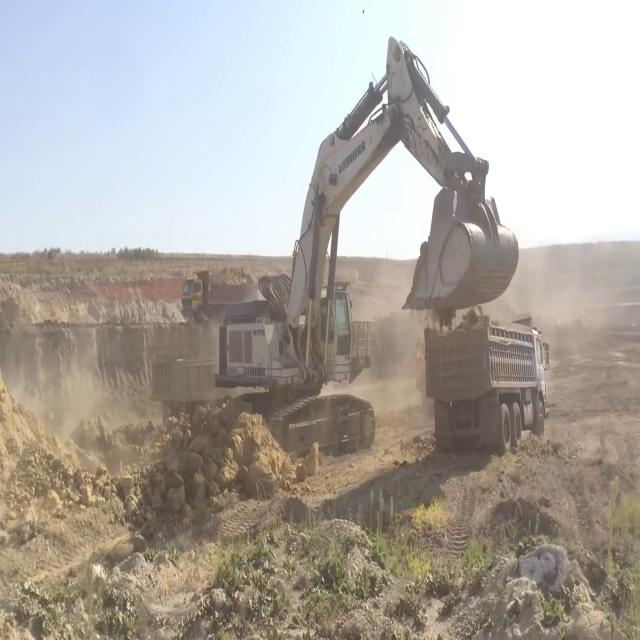excavator: (217, 32, 520, 462)
